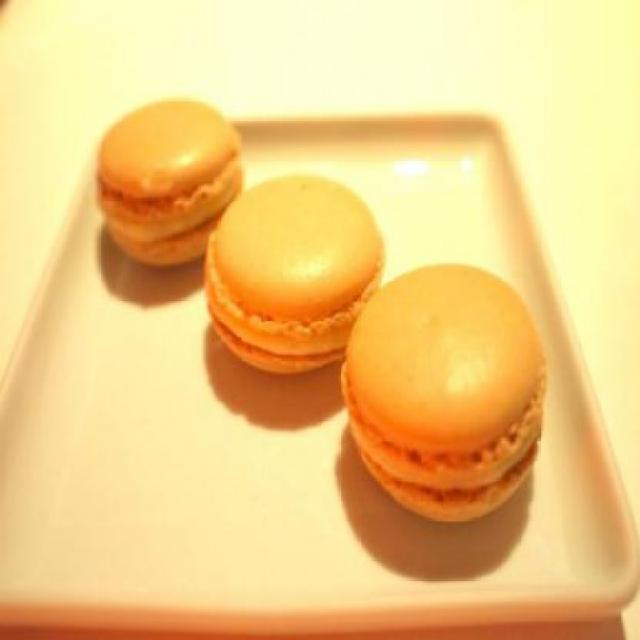Macaron: (82, 93, 550, 547)
